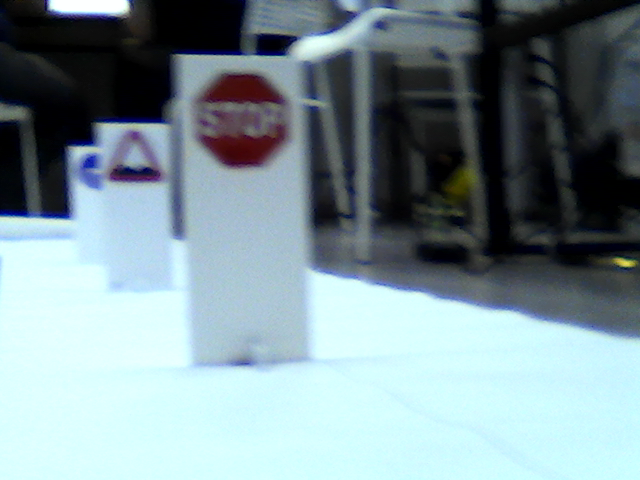Nerov: (107, 129, 166, 183)
Stop: (194, 68, 291, 173)
